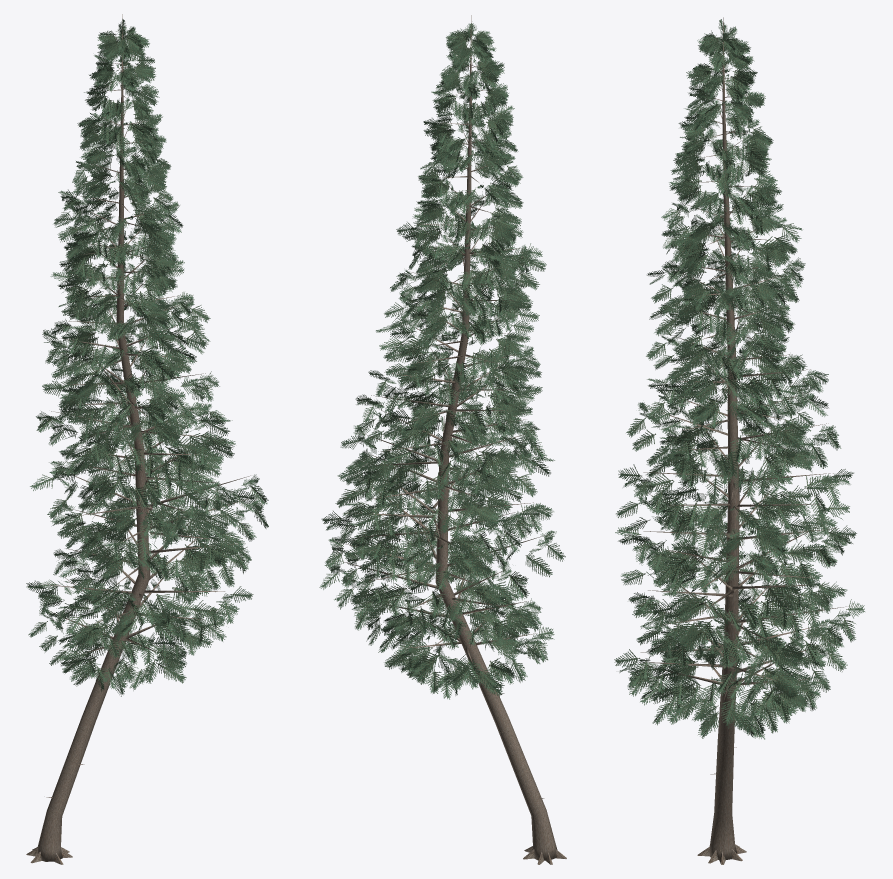
The model's file is SS_Defect_Bent_Mature_02_LOD2.fbx.
The picture shows the model from 3 angles, left to right: view 1: azimuth 30°, elevation 25°; view 2: azimuth 150°, elevation 25°; view 3: azimuth 270°, elevation 25°; orthographic projection. The views are drawn at different scales.
Parts seen in each view (by area): view 1: SS_Defect_Bent_Mature_02_LOD2_Foliage, SS_Defect_Bent_Mature_02_LOD2_Trunk, SS_Defect_Bent_Mature_02_LOD2_Branches; view 2: SS_Defect_Bent_Mature_02_LOD2_Foliage, SS_Defect_Bent_Mature_02_LOD2_Trunk, SS_Defect_Bent_Mature_02_LOD2_Branches; view 3: SS_Defect_Bent_Mature_02_LOD2_Foliage, SS_Defect_Bent_Mature_02_LOD2_Trunk, SS_Defect_Bent_Mature_02_LOD2_Branches.
Boxes of the visible parts, left/top/right/bottom form: SS_Defect_Bent_Mature_02_LOD2_Foliage: left=26, top=19, right=268, bottom=696; SS_Defect_Bent_Mature_02_LOD2_Trunk: left=26, top=14, right=150, bottom=864; SS_Defect_Bent_Mature_02_LOD2_Branches: left=44, top=35, right=250, bottom=797; SS_Defect_Bent_Mature_02_LOD2_Foliage: left=319, top=23, right=565, bottom=699; SS_Defect_Bent_Mature_02_LOD2_Trunk: left=435, top=15, right=566, bottom=864; SS_Defect_Bent_Mature_02_LOD2_Branches: left=339, top=35, right=548, bottom=798; SS_Defect_Bent_Mature_02_LOD2_Foliage: left=614, top=19, right=864, bottom=739; SS_Defect_Bent_Mature_02_LOD2_Trunk: left=697, top=17, right=746, bottom=864; SS_Defect_Bent_Mature_02_LOD2_Branches: left=640, top=37, right=848, bottom=774.
Bounding box in the file's own units: 804 × 2600 × 738.
2 materials, 2 textured.
